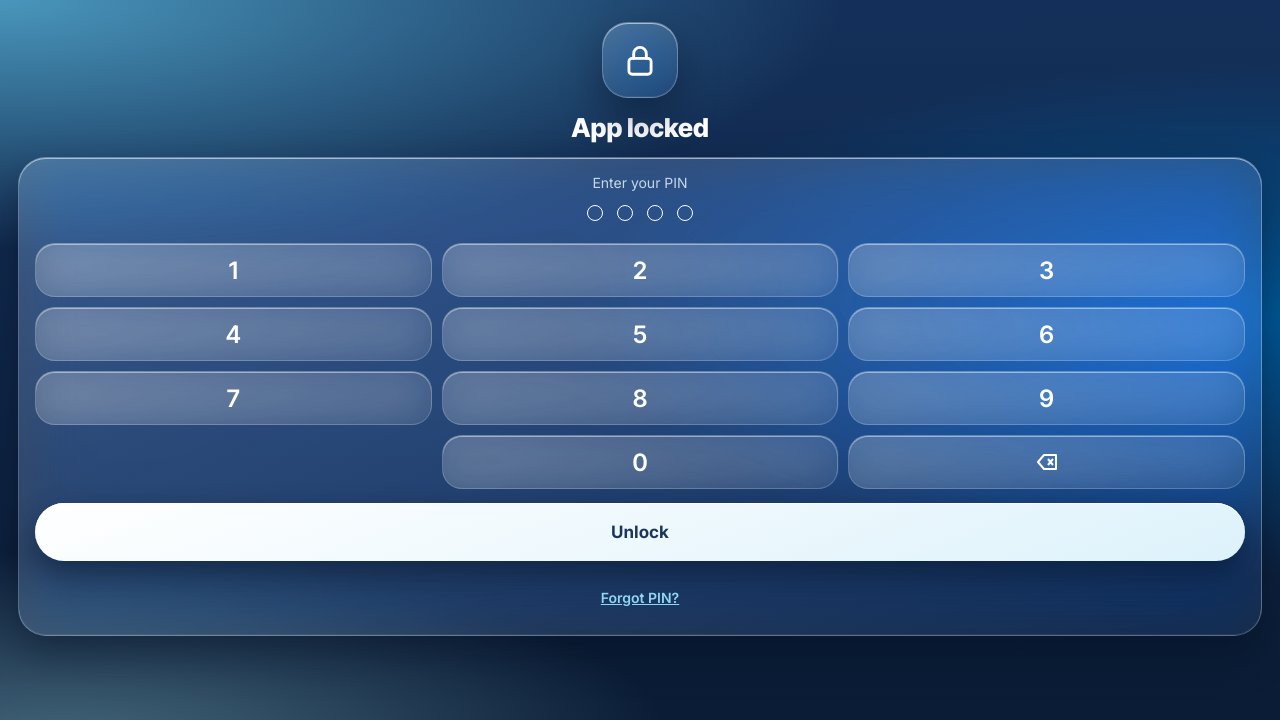
Test: Forgot PIN with a different account: error, stays locked, PIN kept
Click the button "Forgot PIN?" at (640, 597), box [593,575,687,619]
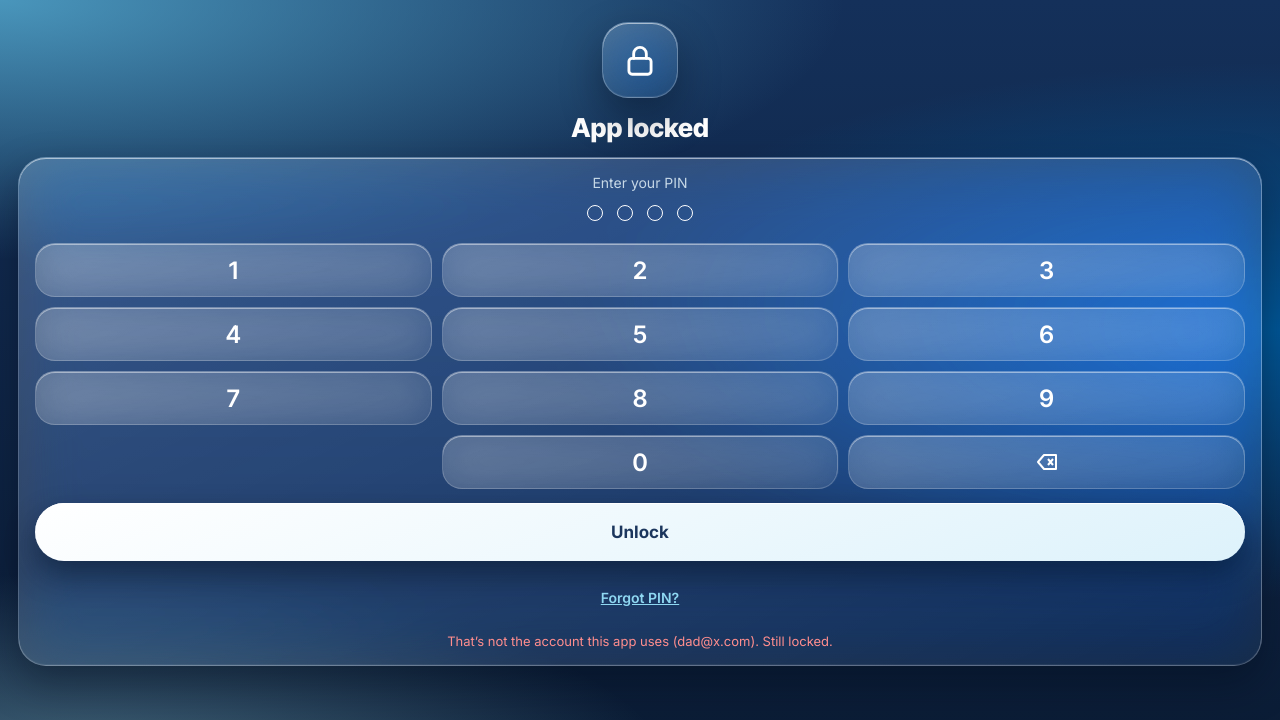
expect the text "App locked" is shown: met, box [571,112,709,143]
expect the text "That’s not the account this app uses (dad@x.com). Still locked." is shown: met, box [447,633,833,649]
